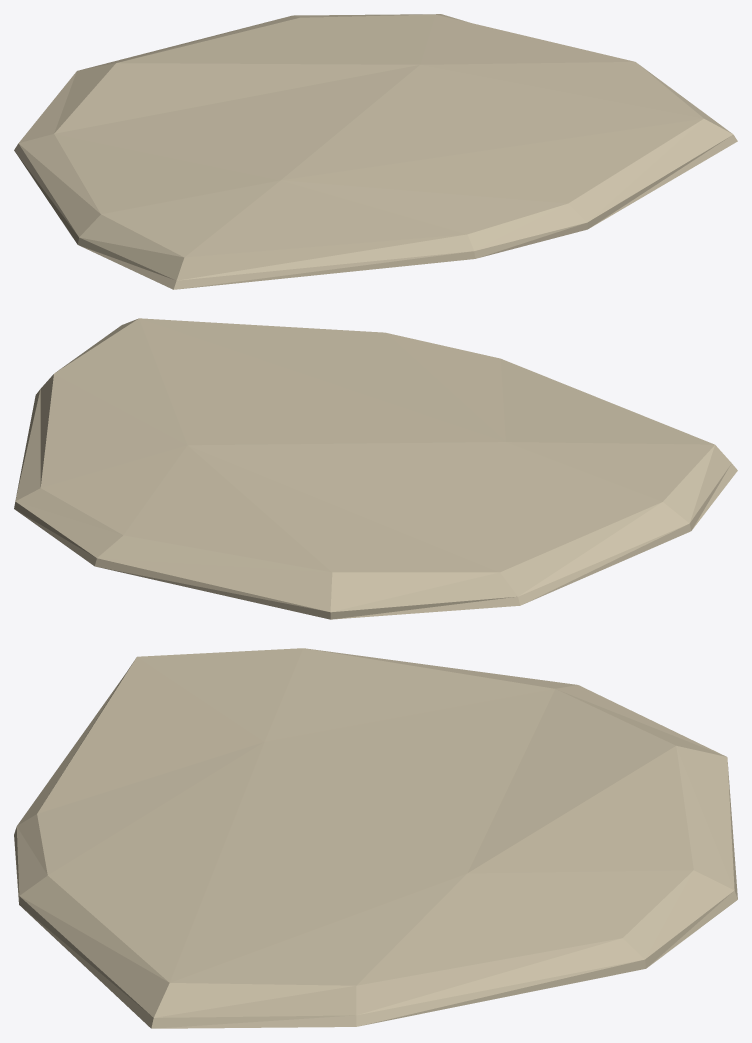
The model's file is stage0_path_stone_a.glb.
3 views of the same model, one above another, from view 1: azimuth 30°, elevation 25°; view 2: azimuth 150°, elevation 25°; view 3: azimuth 270°, elevation 25° (orthographic). The views are drawn at different scales.
Parts seen in each view (by area): view 1: stone; view 2: stone; view 3: stone.
Boxes of the visible parts, x1,y1,x2,y2 form: stone: [14, 14, 737, 289]; stone: [14, 318, 737, 619]; stone: [14, 648, 737, 1028].
Bounding box in the file's own units: 0.9 × 0.058 × 0.75.
